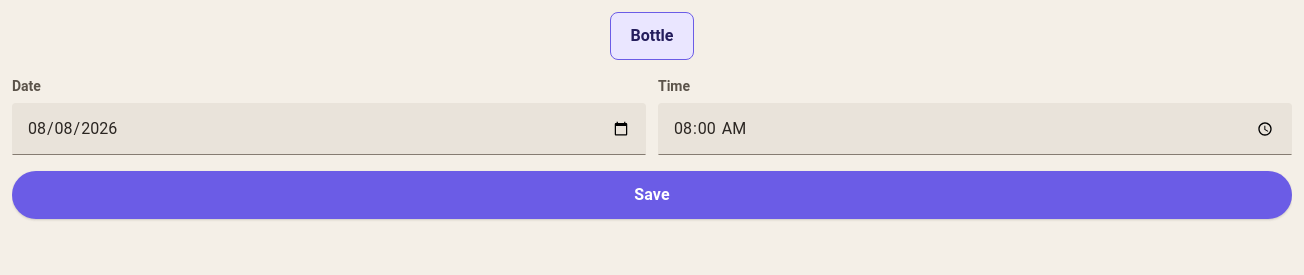
Test case: FeedDiaperBackfillForm › rejects a future time
The image size is (1304, 275).
Replace the text in the time field labelled "Time" with "09:00" at coordinates (975, 129), box [658,103,1292,155]
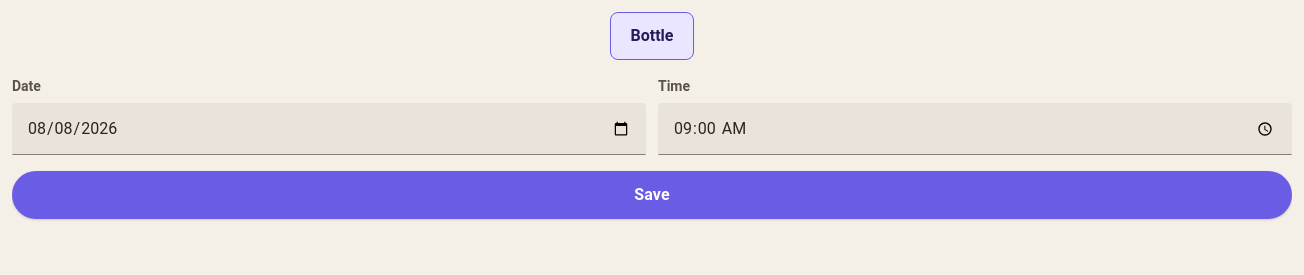
Click the button "Save" at coordinates (652, 195), box [12,171,1292,219]
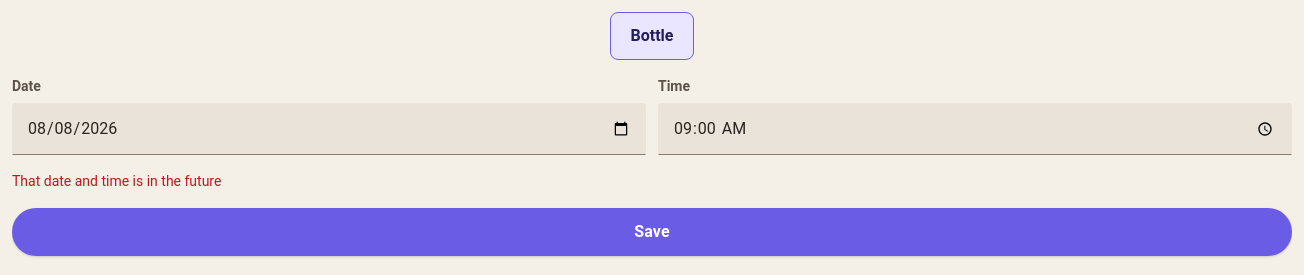
Now the message shows "future", box [12,173,221,189]
